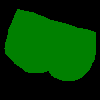mutande: (4, 9, 96, 81)
